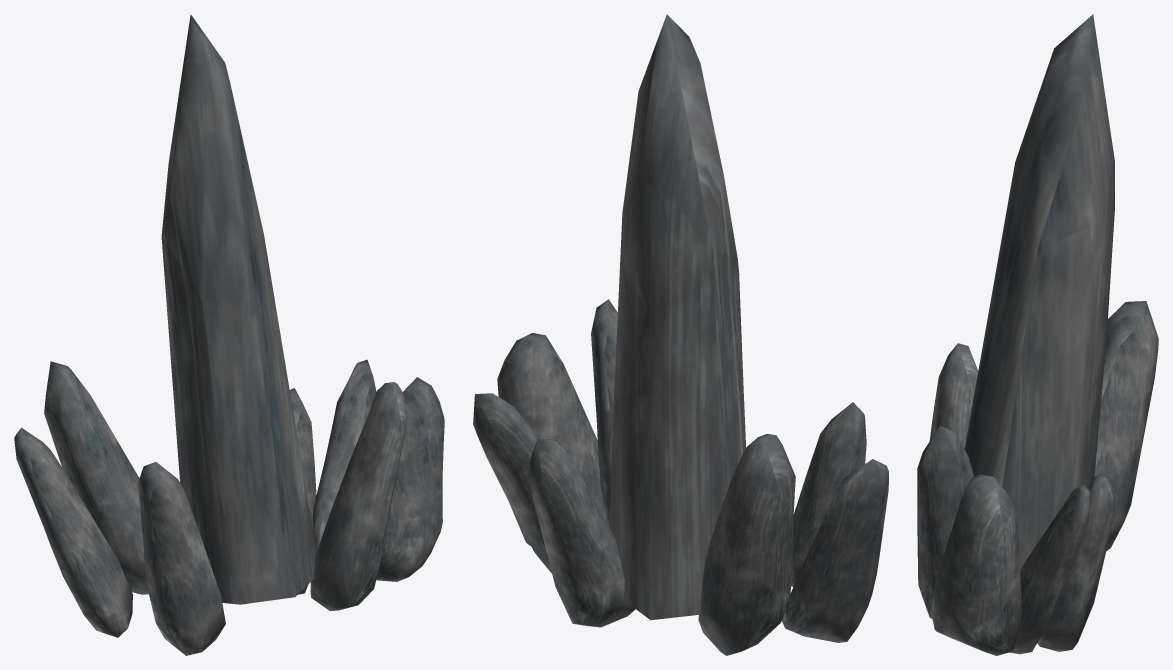
File: AEG004_175-transformed.glb
The picture shows the model from 3 angles, left to right: view 1: azimuth 30°, elevation 25°; view 2: azimuth 150°, elevation 25°; view 3: azimuth 270°, elevation 25°; orthographic projection. The views are drawn at different scales.
Visible parts, largest first — view 1: default; view 2: default; view 3: default.
Boxes of the visible parts, <box> form: default: <box>14,14,444,655</box>; default: <box>473,14,888,655</box>; default: <box>917,14,1158,655</box>.
Bounding box in the file's own units: 8.54 × 12.43 × 4.58.
1 material, 1 textured.
